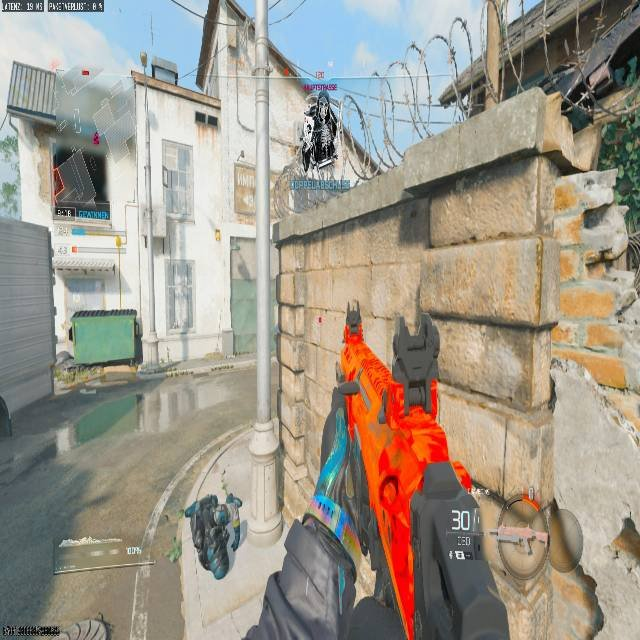head: (495, 499, 550, 575)
player: (456, 499, 604, 639), (300, 87, 339, 170)
